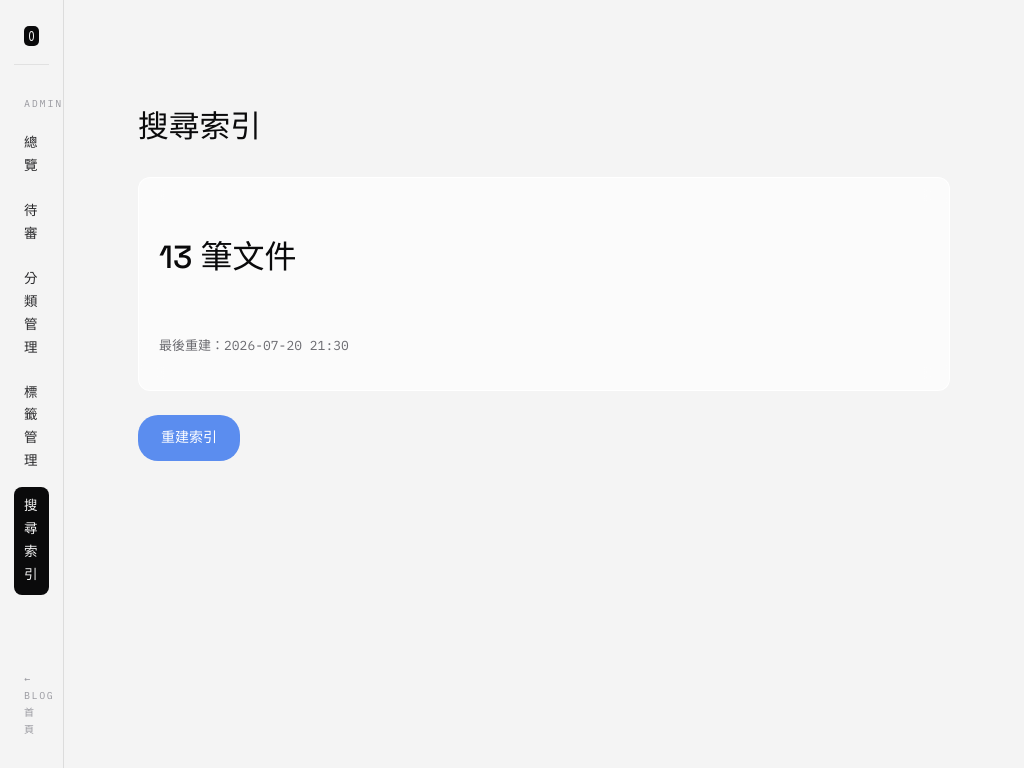
Test: AdminSearchView（Task A9：搜尋索引頁實內容） › 重建索引流程 › 點擊「重建索引」顯示確認對話框，尚未呼叫 reindexSearch
Click the button with test id "admin-search-reindex-btn" at x=189, y=438, box [138,415,240,461]
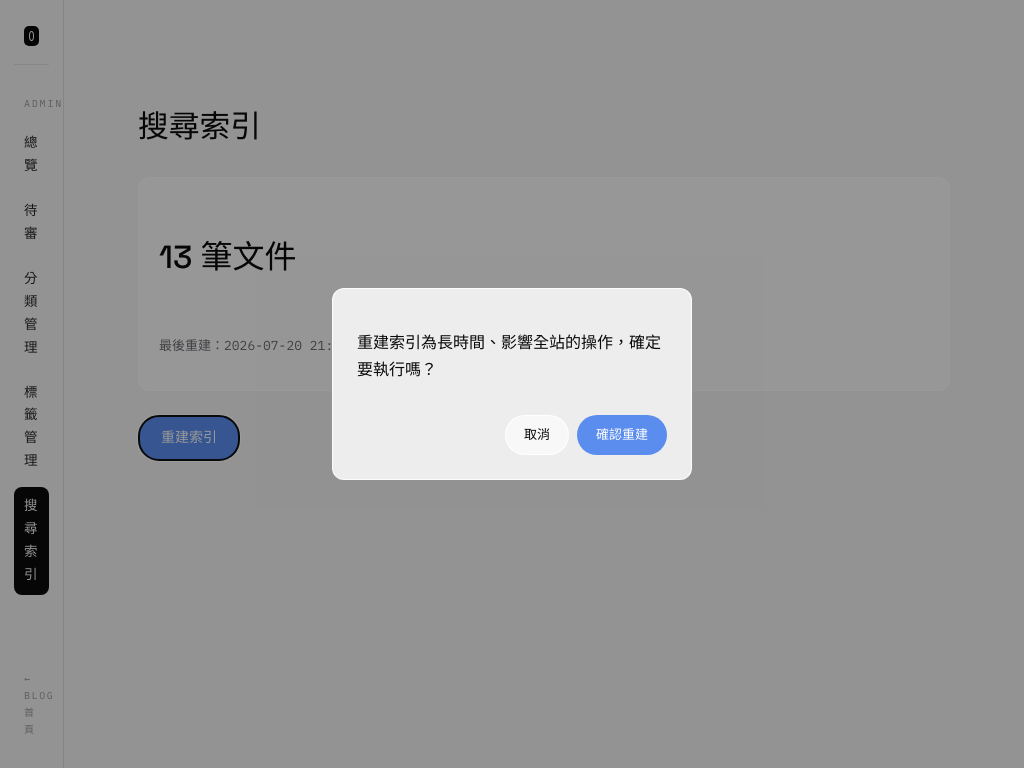
Expected: the element with test id "admin-search-confirm" is shown
